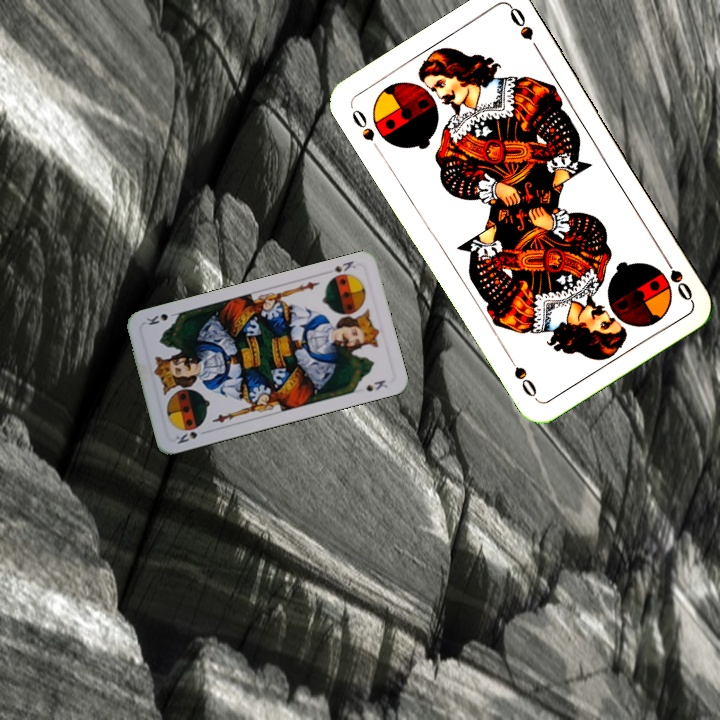SK: (171, 422, 205, 446), (330, 257, 358, 275)
SO: (658, 249, 695, 304), (347, 103, 378, 144)
